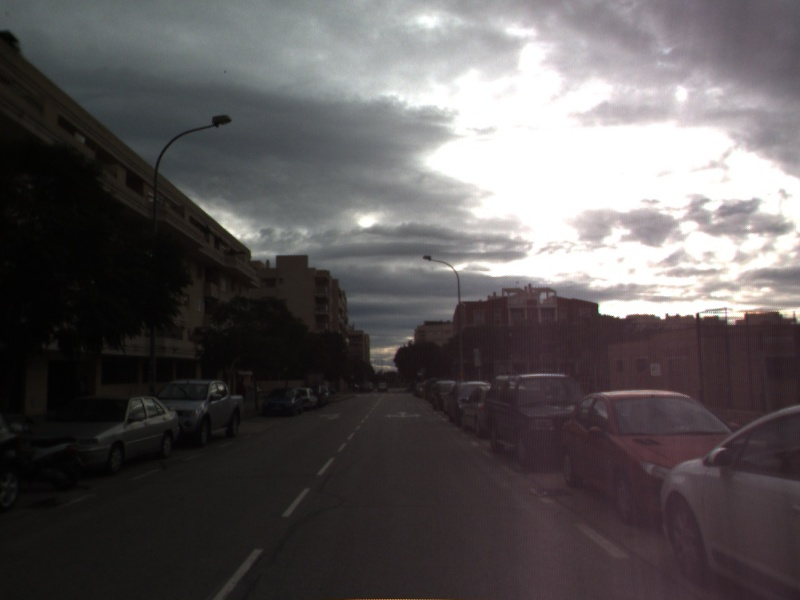STRAIGHT_LEFT_RIGHT: (382, 409, 424, 421)
